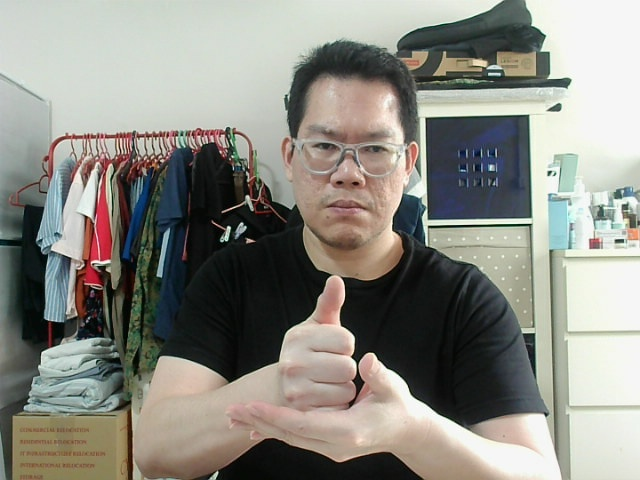help: (266, 284, 347, 412)
